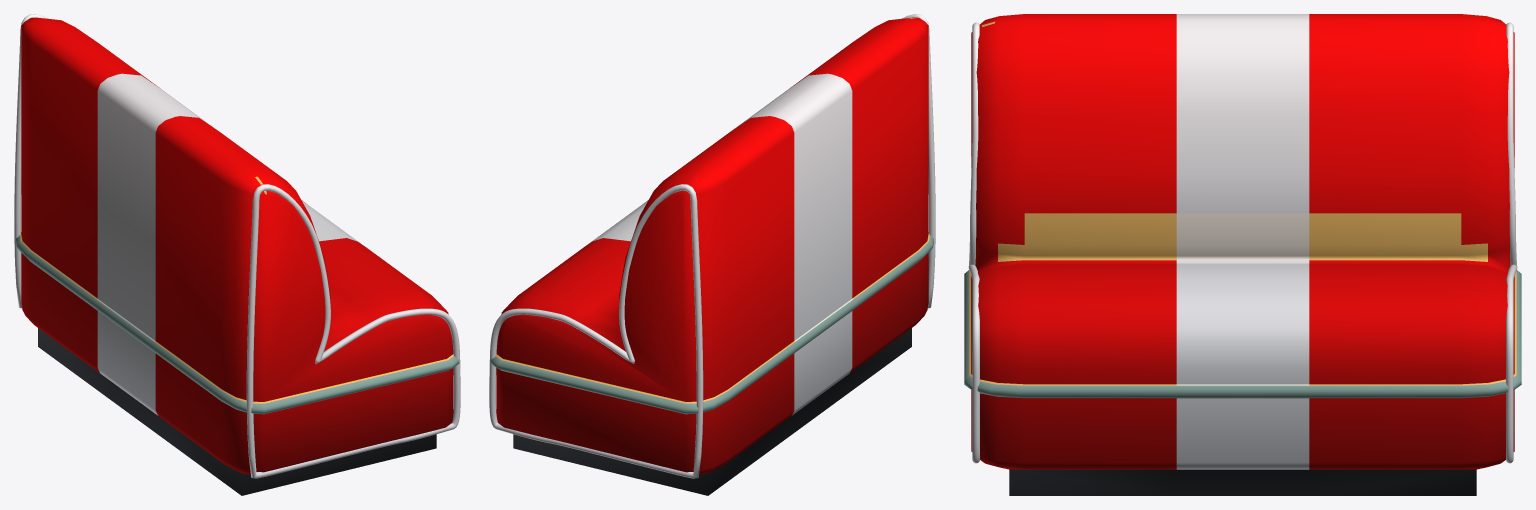
The model's file is Couch.fbx.
3 renders of one model, left to right at view 1: azimuth 30°, elevation 25°; view 2: azimuth 150°, elevation 25°; view 3: azimuth 270°, elevation 25°, orthographic. The views are drawn at different scales.
Parts seen in each view (by area): view 1: Couch.001, Couch; view 2: Couch.001, Couch; view 3: Couch.001, Couch.
Part boxes in pixels (x1,y1,x2,y2): Couch.001: (14, 14, 460, 495); Couch: (16, 176, 459, 414); Couch.001: (489, 14, 935, 495); Couch: (490, 18, 933, 414); Couch.001: (968, 14, 1517, 495); Couch: (964, 21, 1521, 398).
Size of the model in its own units: 1322 by 1801 by 2446.
